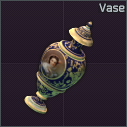Antique vase: (0, 0, 127, 127)
